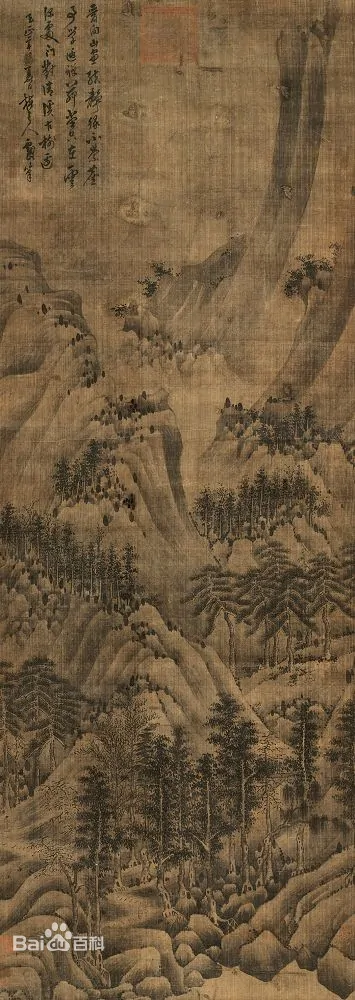mountain: (250, 4, 355, 250)
range: (7, 520, 227, 854), (4, 237, 184, 559)
rock: (160, 878, 301, 991)
tree: (188, 557, 355, 685), (11, 507, 140, 615), (2, 651, 84, 791), (207, 693, 263, 892), (132, 731, 187, 904), (223, 396, 346, 469), (202, 478, 337, 543), (73, 762, 119, 945), (186, 749, 227, 913), (279, 697, 318, 865)
